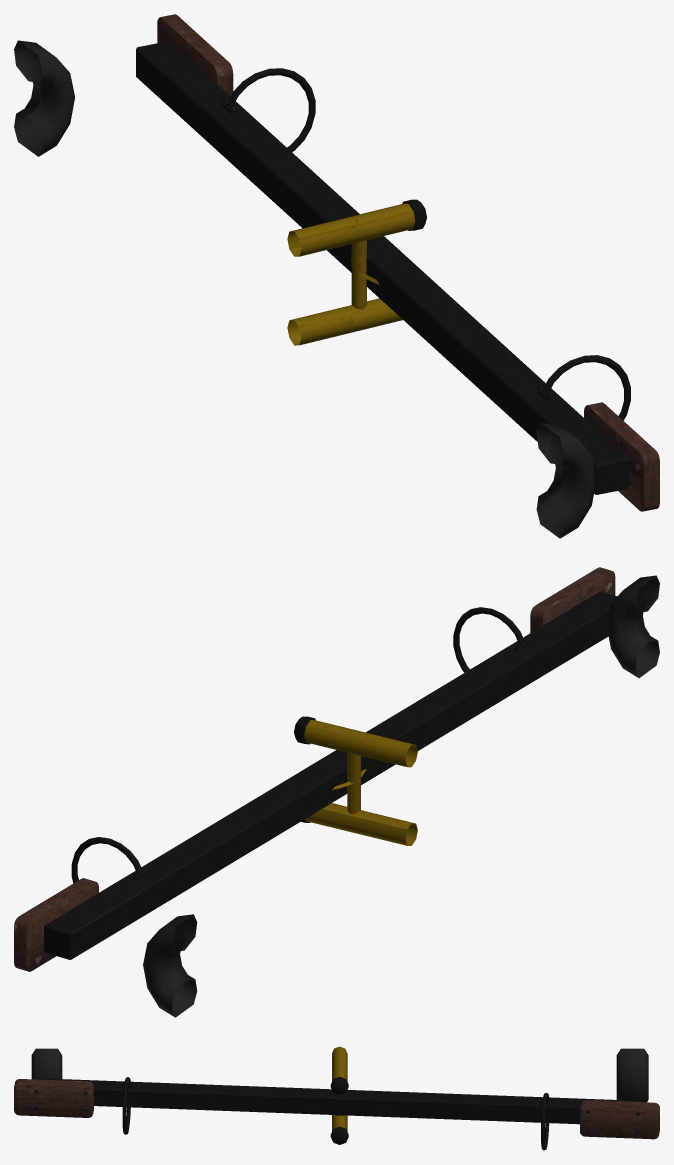
The model's file is cP_Seesaw.dae.
The picture shows the model from 3 angles, top to bottom: view 1: azimuth 30°, elevation 25°; view 2: azimuth 150°, elevation 25°; view 3: azimuth 270°, elevation 25°; orthographic projection. The views are drawn at different scales.
Visible parts, largest first — view 1: cP_Seesaw.001; view 2: cP_Seesaw.001; view 3: cP_Seesaw.001.
Part boxes in pixels (box(x1,y1,x2,y2)): cP_Seesaw.001: box(14, 14, 659, 538); cP_Seesaw.001: box(14, 567, 659, 1017); cP_Seesaw.001: box(14, 1046, 659, 1150).
Size of the model in its own units: 1.15 by 5.52 by 0.6233.
